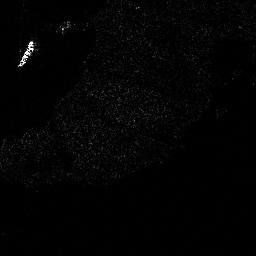ship: (17, 40, 35, 69)
